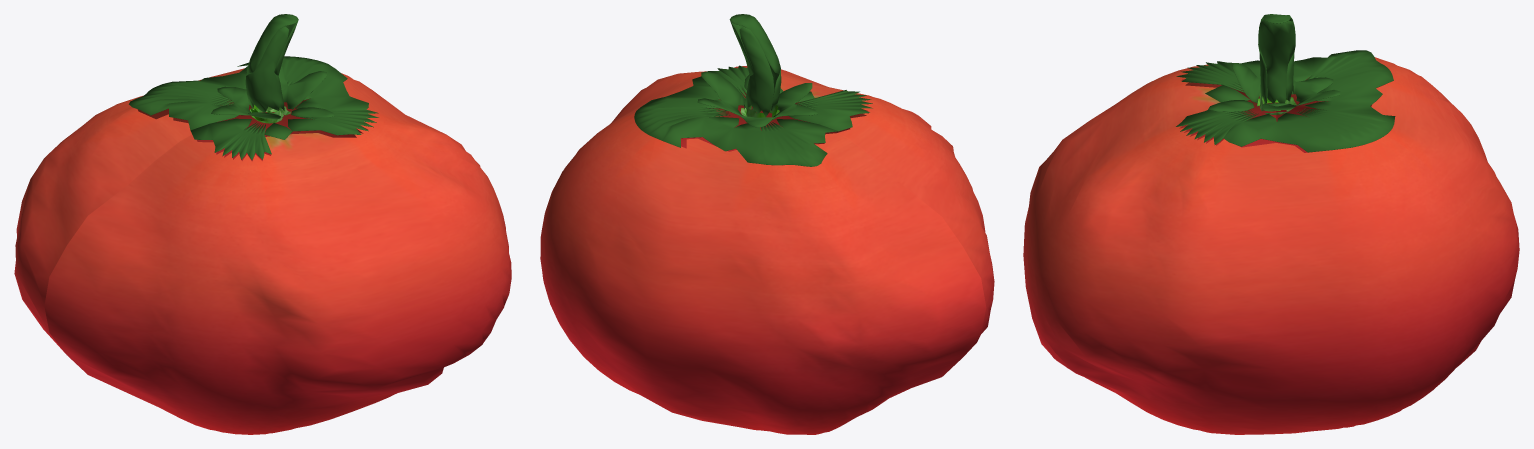
File: tomato.fbx
The picture shows the model from 3 angles, left to right: view 1: azimuth 30°, elevation 25°; view 2: azimuth 150°, elevation 25°; view 3: azimuth 270°, elevation 25°; orthographic projection. The views are drawn at different scales.
Parts seen in each view (by area): view 1: red tomato, green branch; view 2: red tomato, green branch; view 3: red tomato, green branch.
Boxes of the visible parts, x1,y1,x2,y2 form: red tomato: (14,68,511,434); green branch: (129,14,378,159); red tomato: (540,66,994,434); green branch: (634,14,872,166); red tomato: (1023,57,1519,434); green branch: (1176,14,1395,152).
Bounding box in the file's own units: 233 × 200 × 226.
Materials: 2 (1 with a texture image).
